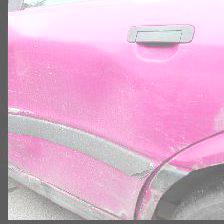door_dent: (11, 42, 172, 211)
